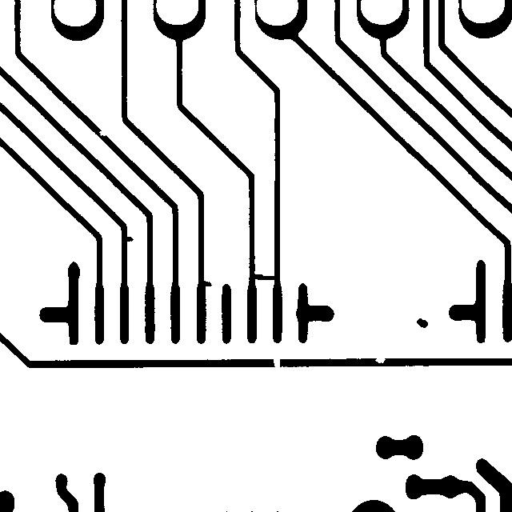copper: (409, 310, 435, 335)
mousebite: (367, 350, 393, 370), (91, 123, 114, 143)
open: (266, 343, 289, 379)
short: (244, 266, 283, 287)
spur: (193, 273, 219, 294), (117, 229, 141, 249)
